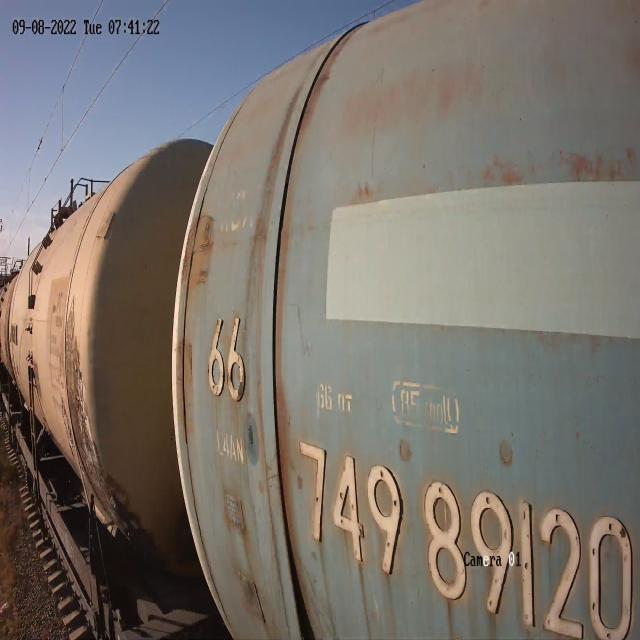tank: (167, 0, 640, 640), (5, 124, 211, 640)
